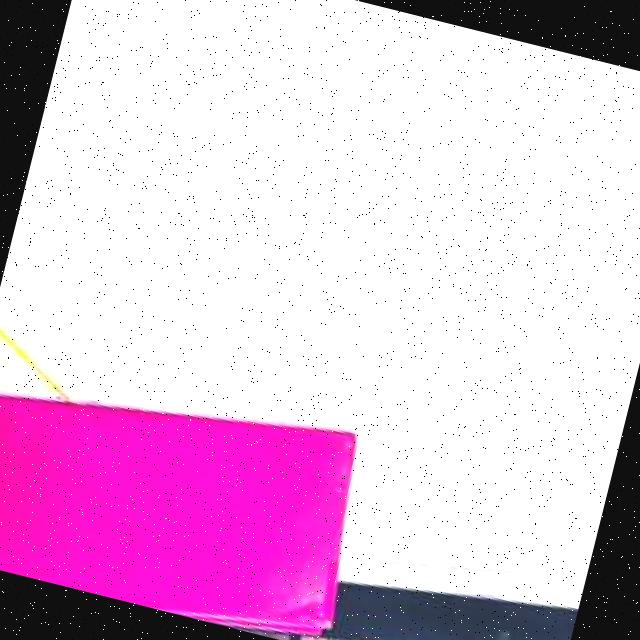xparking: (0, 366, 358, 629)
